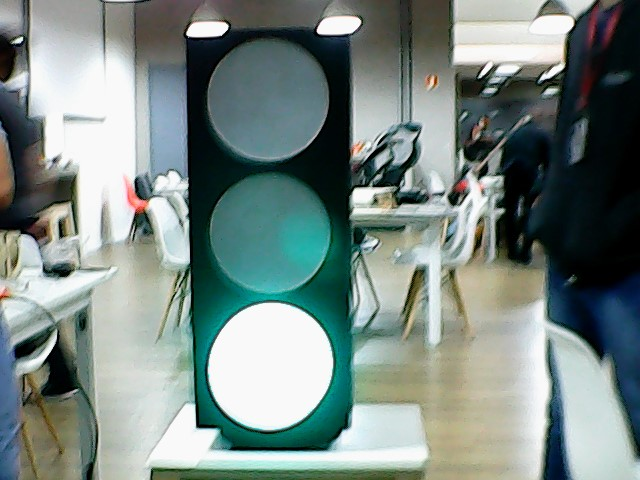verde: (179, 22, 362, 429)
